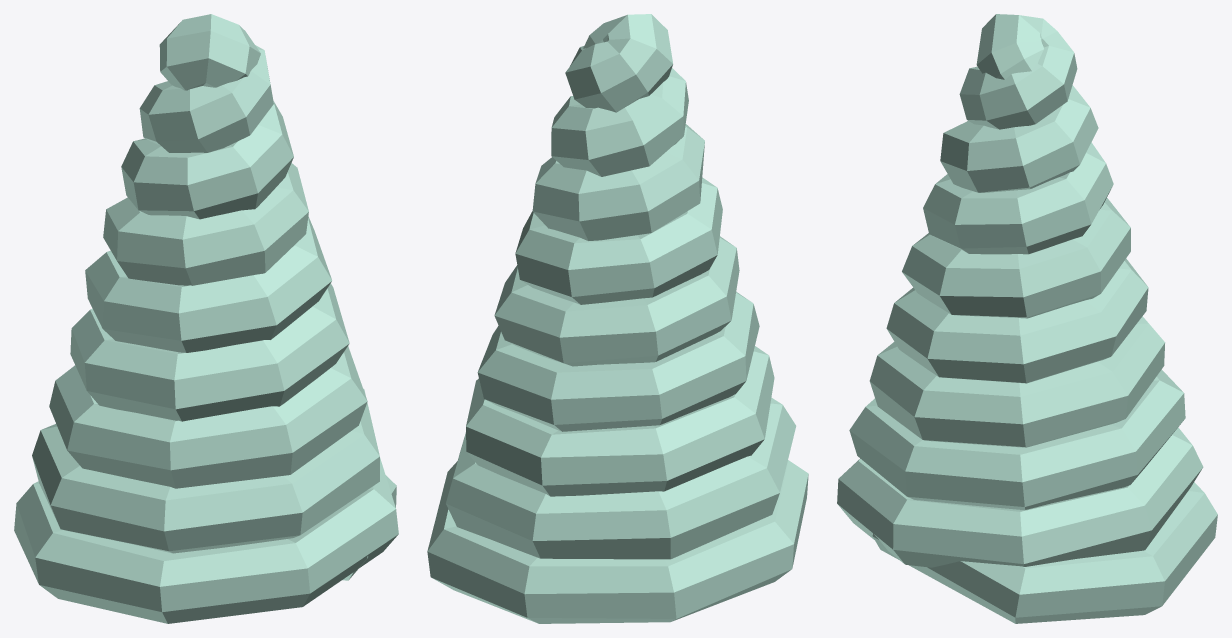
The model's file is Stozek.fbx.
The picture shows the model from 3 angles, left to right: view 1: azimuth 30°, elevation 25°; view 2: azimuth 150°, elevation 25°; view 3: azimuth 270°, elevation 25°; orthographic projection. The views are drawn at different scales.
Parts seen in each view (by area): view 1: Stozek; view 2: Stozek; view 3: Stozek.
Boxes of the visible parts, bbox=[...] form: Stozek: bbox=[14, 14, 398, 623]; Stozek: bbox=[427, 14, 808, 623]; Stozek: bbox=[837, 14, 1217, 623].
Bounding box in the file's own units: 617 × 940 × 593.
